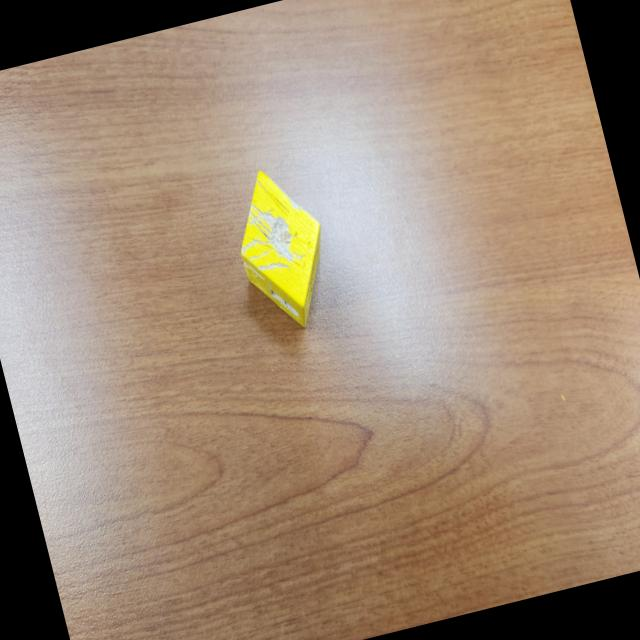broken: (222, 160, 342, 336)
